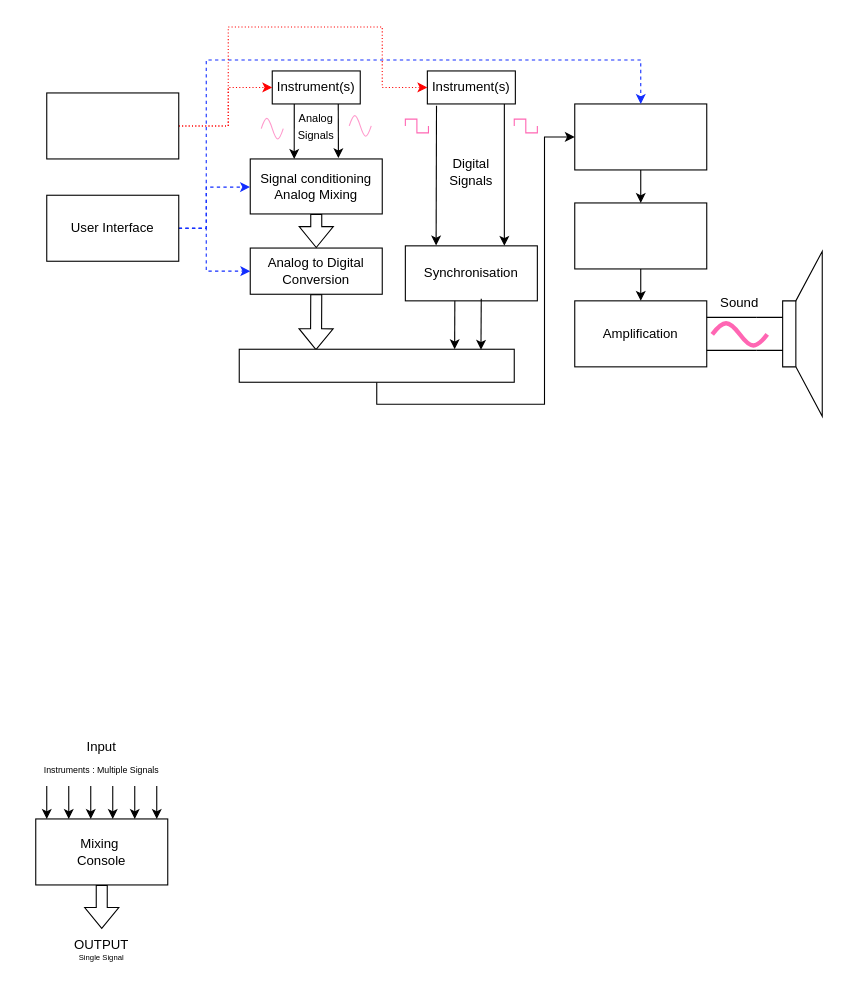
This 842x992 diagram has some shape labels left out. Here are the shapes that lost their labels. From the top down, the box of each, then its label:
(46, 92, 179, 159): Start / Ready / Sync Signal
(574, 103, 707, 170): Sound Effects
(574, 202, 707, 269): Digital to Analog Conversion
(238, 348, 514, 382): Signal Processing
